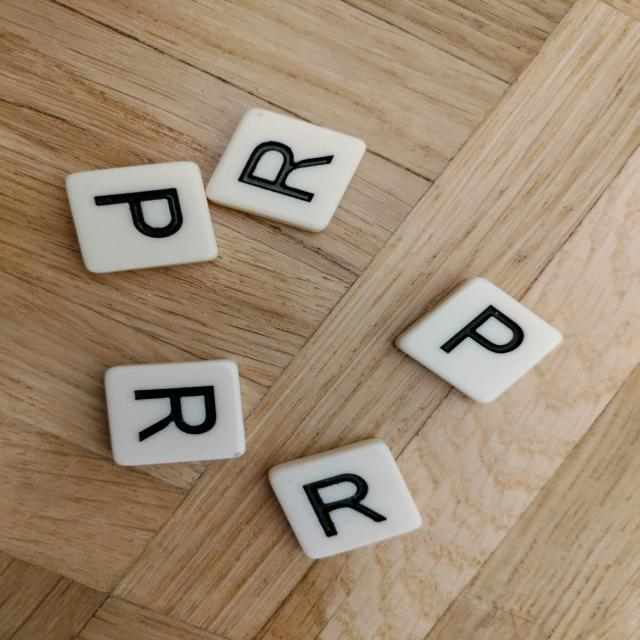p: (391, 273, 568, 406), (65, 160, 218, 274)
r: (201, 106, 370, 234), (263, 435, 426, 561), (102, 358, 247, 467)
